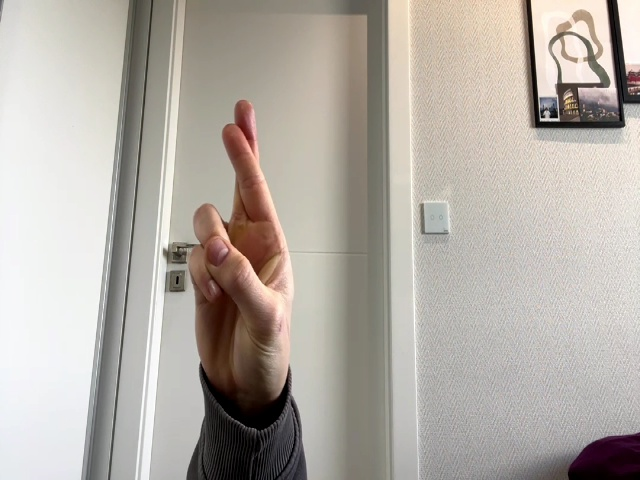R: (188, 99, 295, 401)
